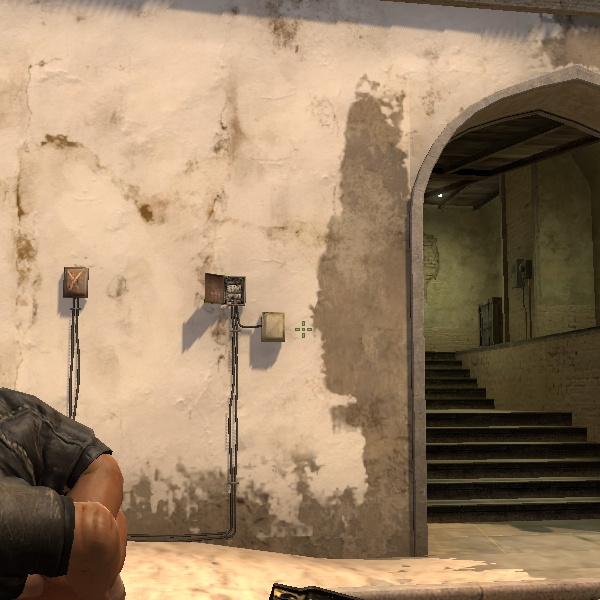t_body: (0, 383, 149, 598)
